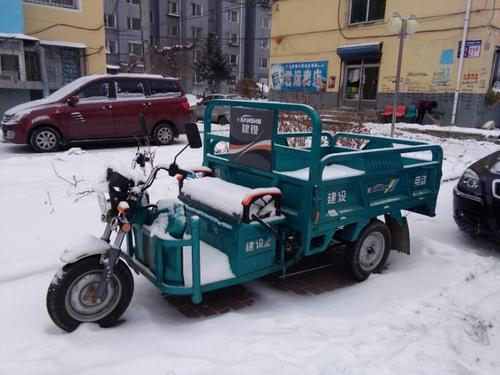minibus: (7, 58, 188, 148)
tricycle: (57, 94, 432, 341)
